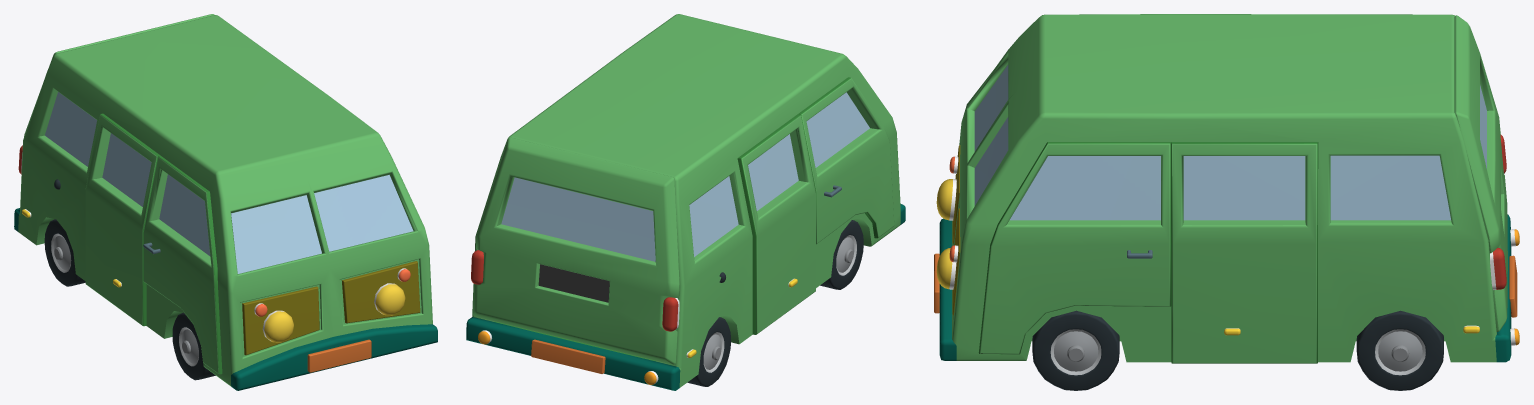
The model's file is VanCarGreen.FBX.
3 views of the same model, side by side, from view 1: azimuth 30°, elevation 25°; view 2: azimuth 150°, elevation 25°; view 3: azimuth 270°, elevation 25° (orthographic). The views are drawn at different scales.
Visible parts, largest first — view 1: Thanxe, Banhxe4, Banhxe6, cop; view 2: Thanxe, cop, Banhxe4, Banhxe6; view 3: Thanxe, cop, Banhxe5, Banhxe.
Boxes of the visible parts, bbox=[...] form: Thanxe: bbox=[14, 15, 437, 390]; Banhxe4: bbox=[172, 312, 215, 380]; Banhxe6: bbox=[44, 219, 85, 286]; cop: bbox=[24, 14, 214, 136]; Thanxe: bbox=[466, 14, 905, 390]; cop: bbox=[472, 137, 679, 364]; Banhxe4: bbox=[820, 220, 863, 289]; Banhxe6: bbox=[687, 317, 730, 386]; Thanxe: bbox=[934, 14, 1519, 363]; cop: bbox=[1454, 15, 1507, 331]; Banhxe5: bbox=[1032, 310, 1119, 390]; Banhxe: bbox=[1356, 310, 1443, 390].
Bounding box in the file's own units: 7.57 × 6.86 × 13.54.
